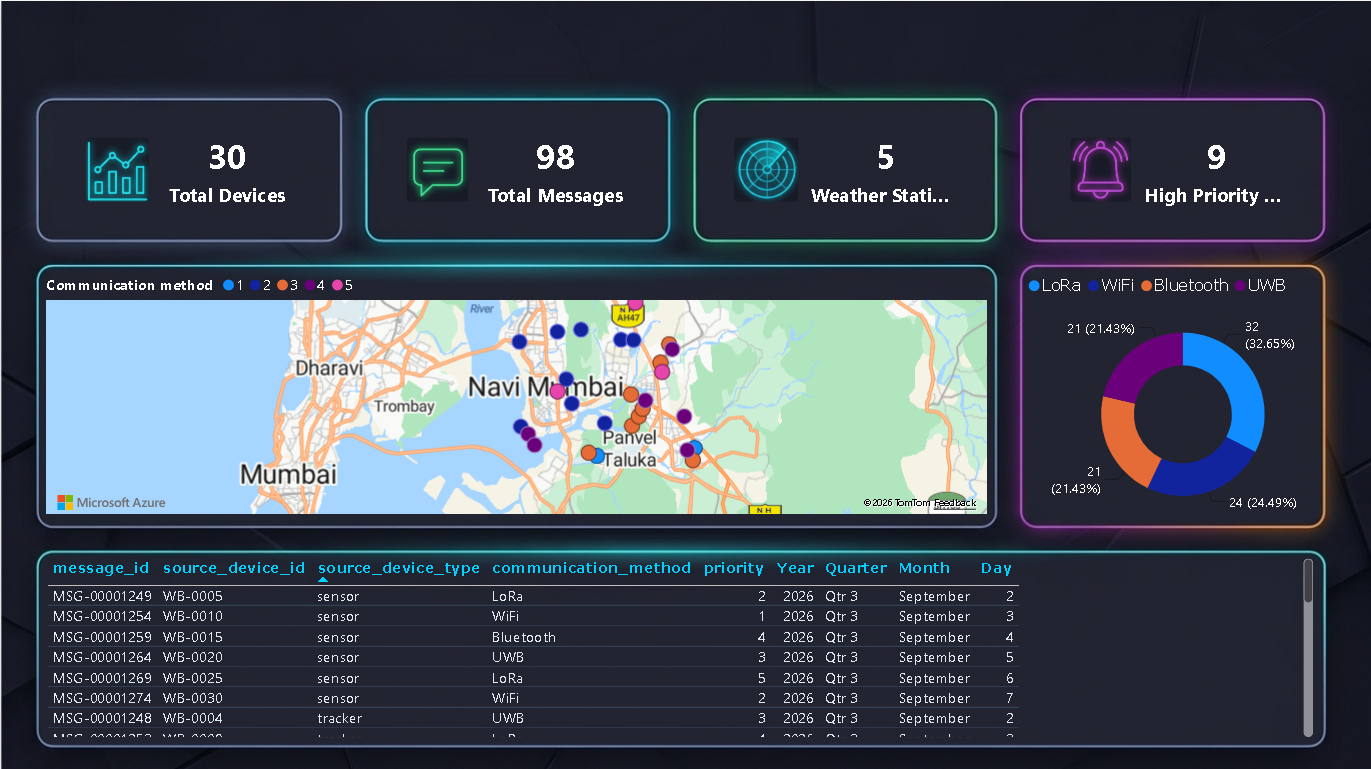

The page's visual inventory and layout, read from the dashboard file:
{"tool":"powerbi","page":{"name":"Page 1","canvas":[1280,720],"ordinal":0},"visuals":[{"type":"cardVisual","fields":{"Data":["iot_devices_30.Total Devices"]},"box":[44.5,104.3,257.4,105.7],"z":0},{"type":"cardVisual","fields":{"Data":["iot_devices_30.Total Messages"]},"box":[343.7,104.3,272.7,105.7],"z":1000},{"type":"cardVisual","fields":{"Data":["iot_devices_30.High Priority Messages"]},"box":[962.8,104.3,267.1,105.7],"z":2000},{"type":"cardVisual","fields":{"Data":["iot_devices_30.Weather Stations Connected"]},"box":[649.7,104.3,274.1,105.7],"z":3000},{"type":"azureMap","fields":{"X":["iot_devices_30.longitude"],"Y":["iot_devices_30.latitude"],"Series":["iot_devices_30.priority"]},"box":[37.4,244.9,886.7,238.9],"z":4000},{"type":"donutChart","fields":{"Category":["iot_devices_30.communication_method"],"Y":["CountNonNull(iot_devices_30.message_id)"]},"box":[952.8,244.4,300,250],"z":5000},{"type":"tableEx","fields":{"Values":["iot_devices_30.message_id","iot_devices_30.source_device_id","iot_devices_30.source_device_type","iot_devices_30.communication_method","iot_devices_30.priority","iot_devices_30.timestamp.Variation.Date Hierarchy.Year","iot_devices_30.timestamp.Variation.Date Hierarchy.Quarter","iot_devices_30.timestamp.Variation.Date Hierarchy.Month","iot_devices_30.timestamp.Variation.Date Hierarchy.Day"]},"box":[37.5,515,1191.2,176.2],"z":6000}]}

Visuals, with their boxes in screenshot pixels (x1, y1, x2, y2), scaled from the page's 1280x720 canvas onto the 1371x769 screenshot:
cardVisual - iot_devices_30.Total Devices: [x1=48, y1=111, x2=323, y2=224]
cardVisual - iot_devices_30.Total Messages: [x1=368, y1=111, x2=660, y2=224]
cardVisual - iot_devices_30.High Priority Messages: [x1=1031, y1=111, x2=1317, y2=224]
cardVisual - iot_devices_30.Weather Stations Connected: [x1=696, y1=111, x2=989, y2=224]
azureMap - iot_devices_30.longitude x iot_devices_30.latitude: [x1=40, y1=262, x2=990, y2=517]
donutChart - iot_devices_30.communication_method x CountNonNull(iot_devices_30.message_id): [x1=1021, y1=261, x2=1342, y2=528]
tableEx - iot_devices_30.message_id x iot_devices_30.source_device_id: [x1=40, y1=550, x2=1316, y2=738]
